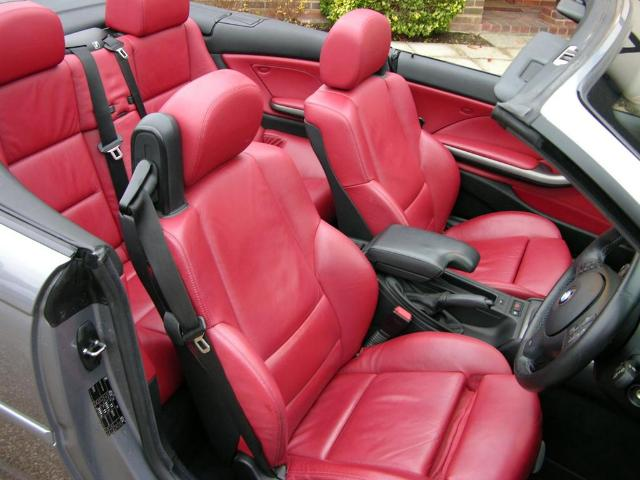Seatbelt: (128, 186, 276, 476), (70, 45, 132, 201), (97, 33, 145, 115)
